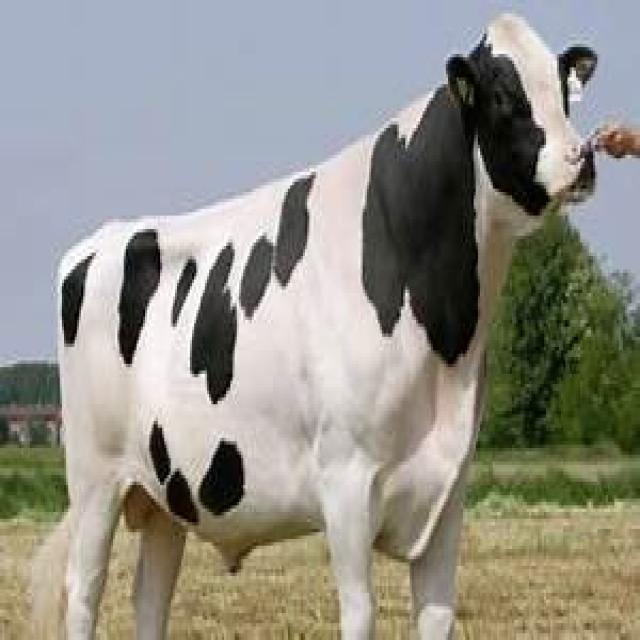cow: (28, 13, 640, 640)
